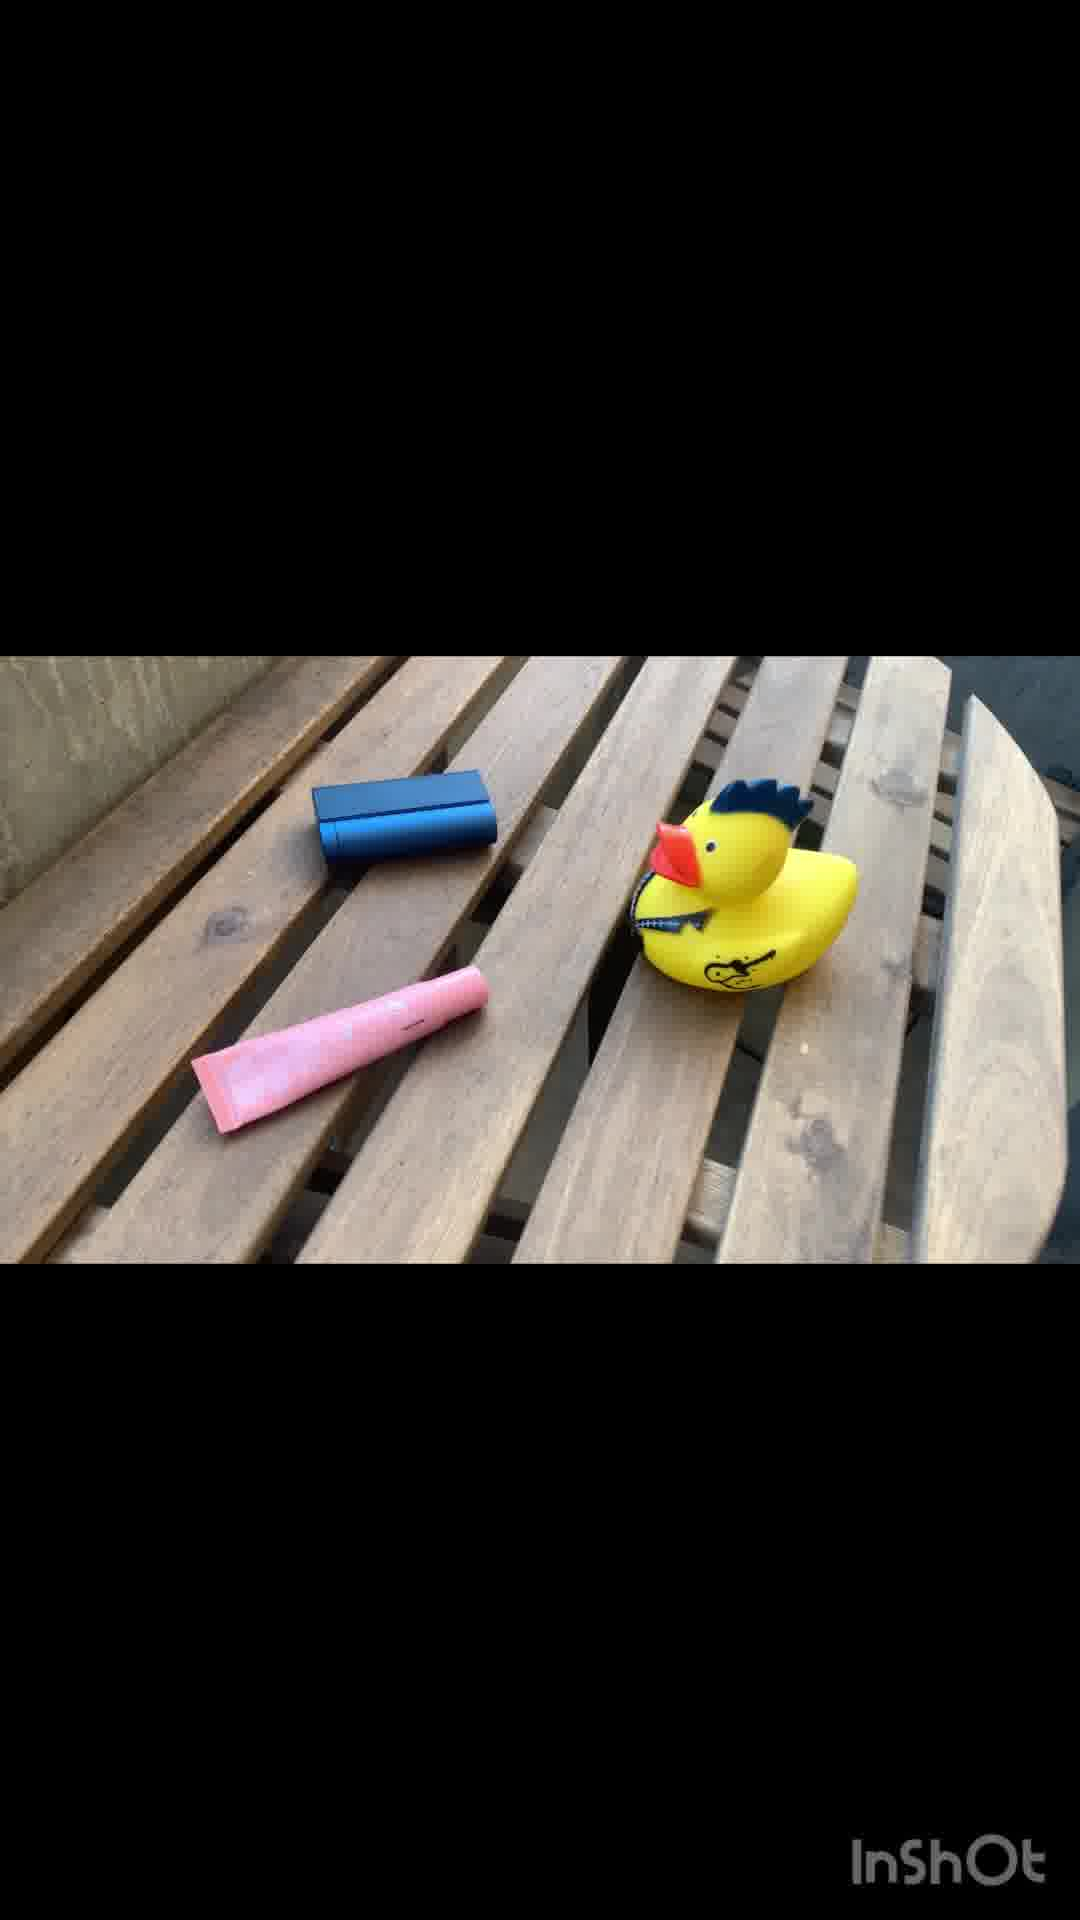duck: (628, 785, 866, 1000)
glo: (301, 767, 513, 877)
lip balm: (193, 967, 492, 1149)
